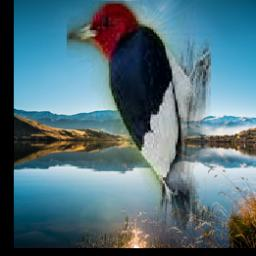Woodpecker: (68, 2, 212, 233)
